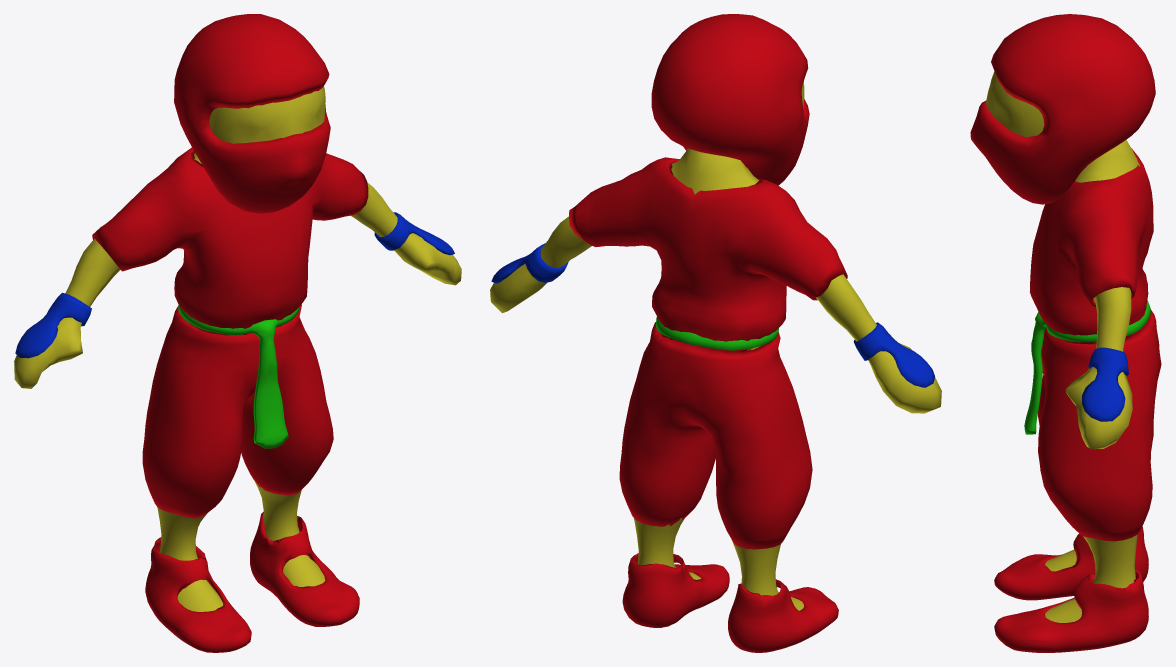
File: butunLP.fbx
The picture shows the model from 3 angles, left to right: view 1: azimuth 30°, elevation 25°; view 2: azimuth 150°, elevation 25°; view 3: azimuth 270°, elevation 25°; orthographic projection.
Visible parts, largest first — view 1: kusak.LP; view 2: kusak.LP; view 3: kusak.LP.
Part boxes in pixels (box(x1,y1,x2,y2)): kusak.LP: box(14, 14, 461, 652); kusak.LP: box(490, 14, 941, 652); kusak.LP: box(970, 14, 1161, 652).
Size of the model in its own units: 19610 by 25425 by 7359.
